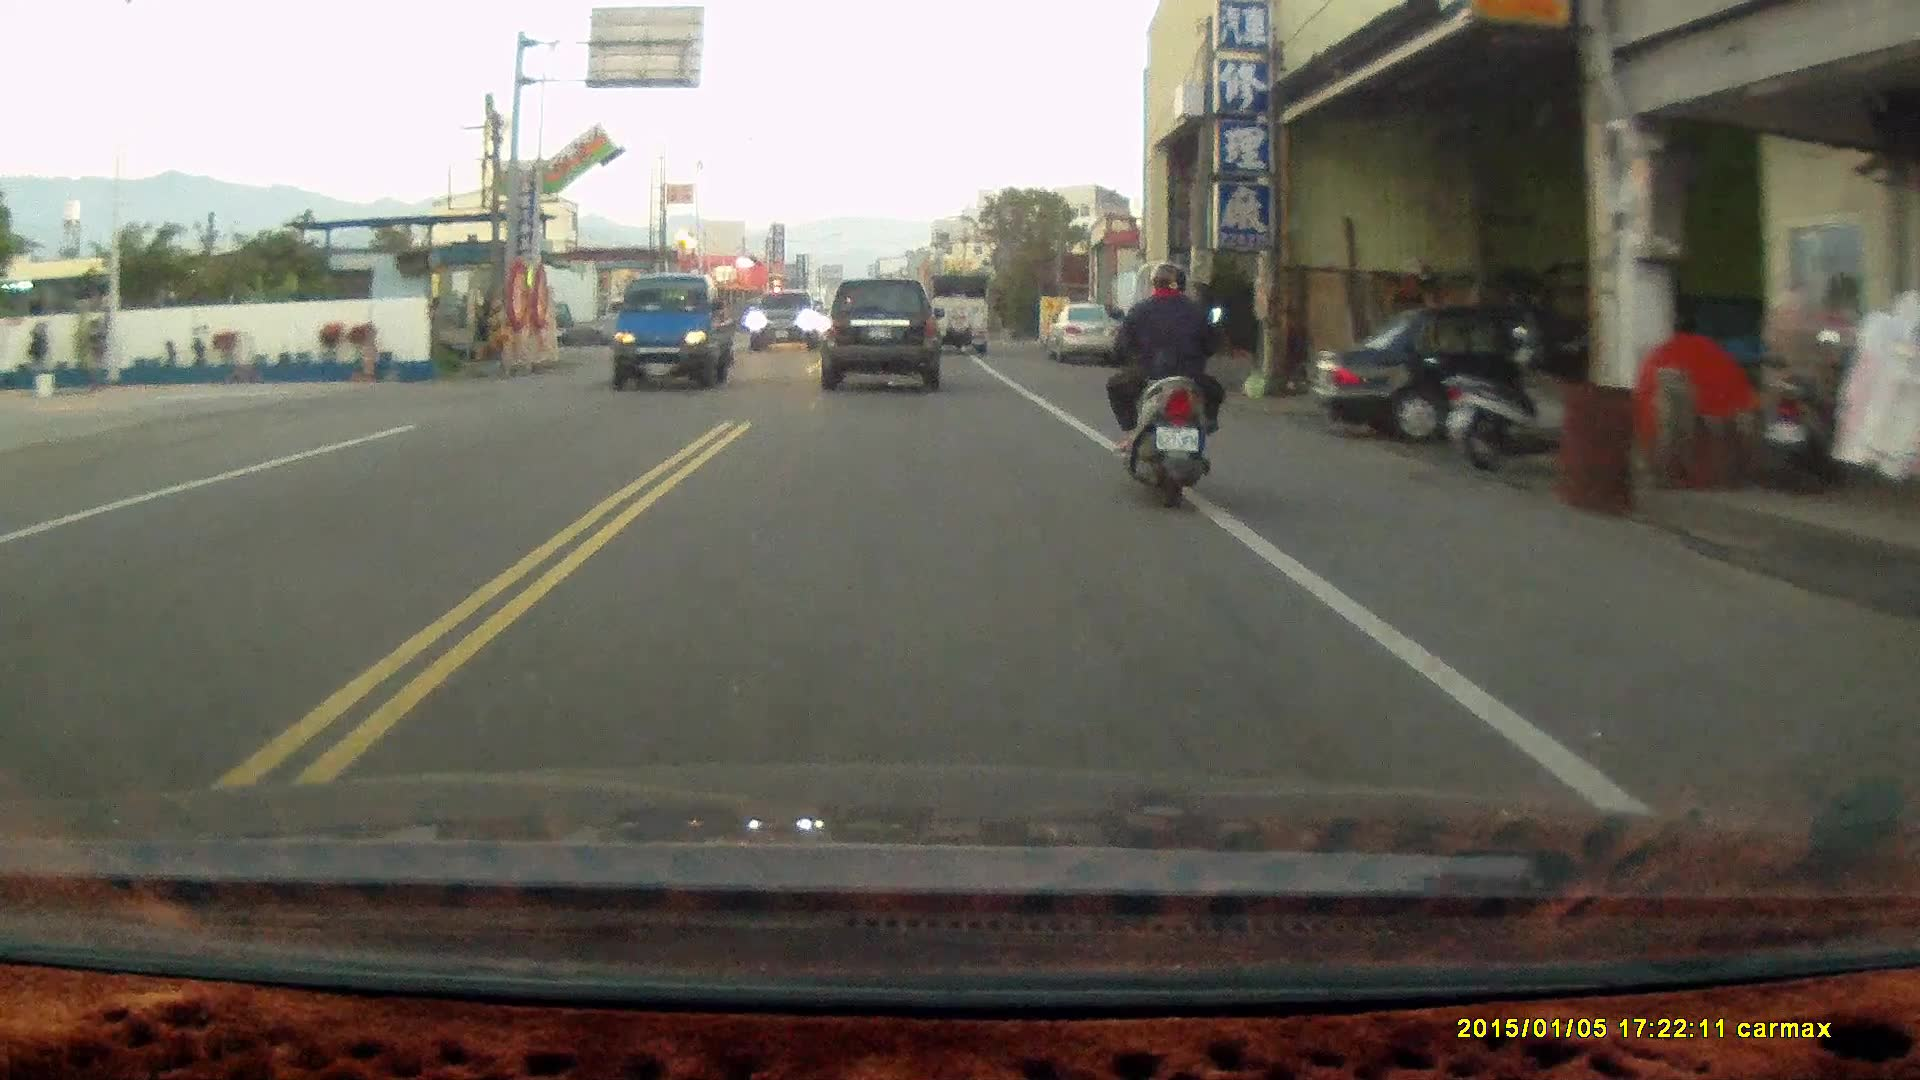rider: (1103, 262, 1225, 513)
vehicle: (1307, 294, 1630, 441), (607, 270, 742, 389), (825, 277, 942, 390), (1041, 297, 1132, 361), (923, 273, 992, 356), (751, 288, 823, 350), (593, 291, 684, 339)
